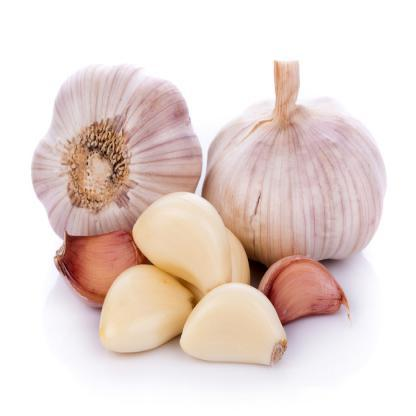garlic: (198, 70, 386, 261), (40, 59, 192, 226), (96, 252, 195, 356), (138, 190, 236, 294), (177, 288, 289, 378), (266, 251, 343, 327)
